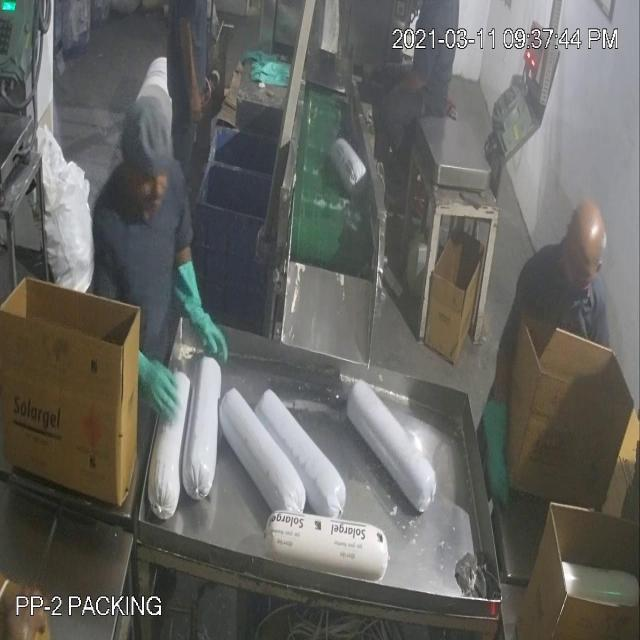Gloves: (36, 60, 201, 384)
